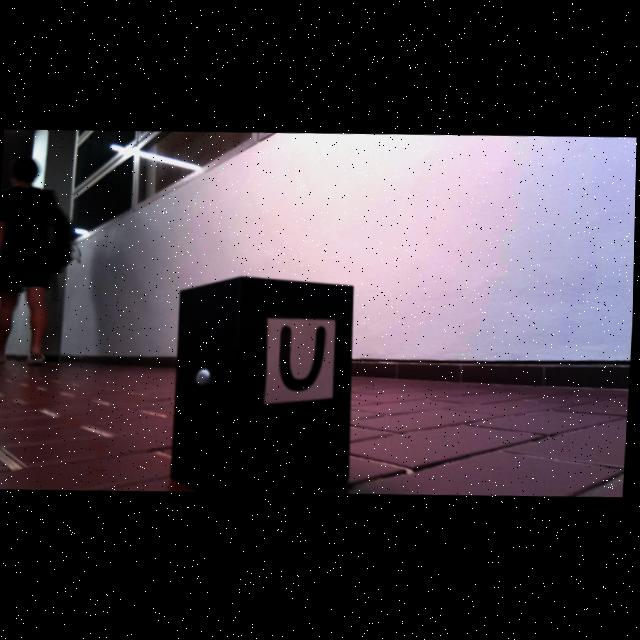U: (281, 327, 328, 392)
